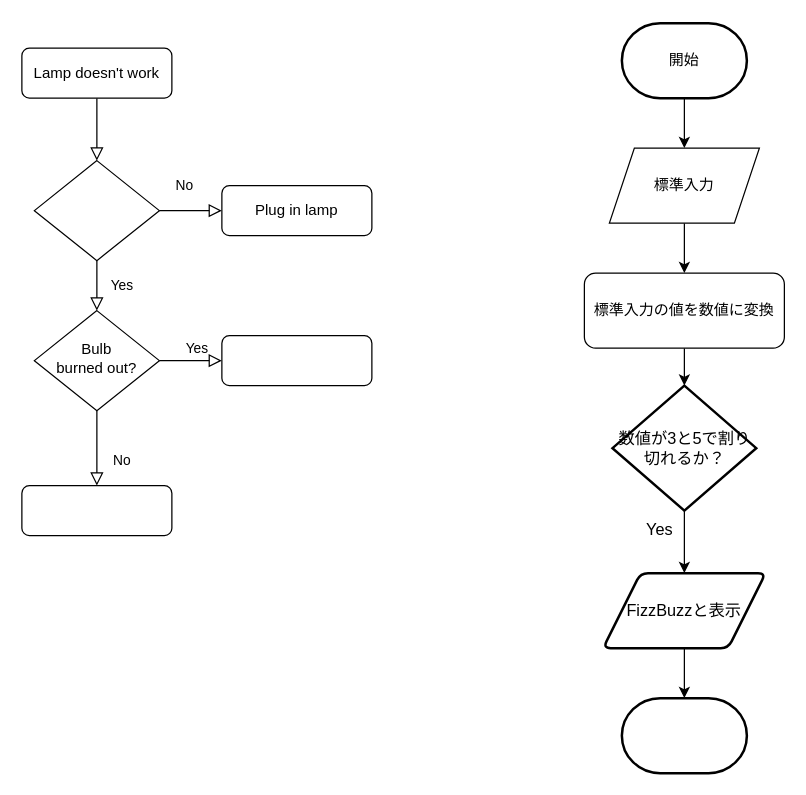
This 806x795 diagram has some shape labels left out. Here are the shapes that lost their labels. From the top down, the box of each, then its label:
(33, 159, 159, 261): Lamp plugged in?
(221, 334, 372, 386): Replace Bulb
(21, 484, 172, 536): Repair Lamp
(620, 696, 748, 774): 終了
